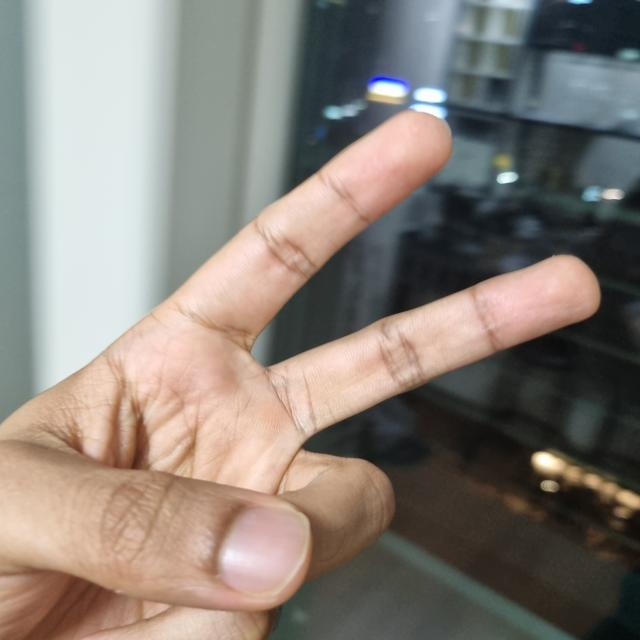Scissors: (0, 108, 600, 639)
